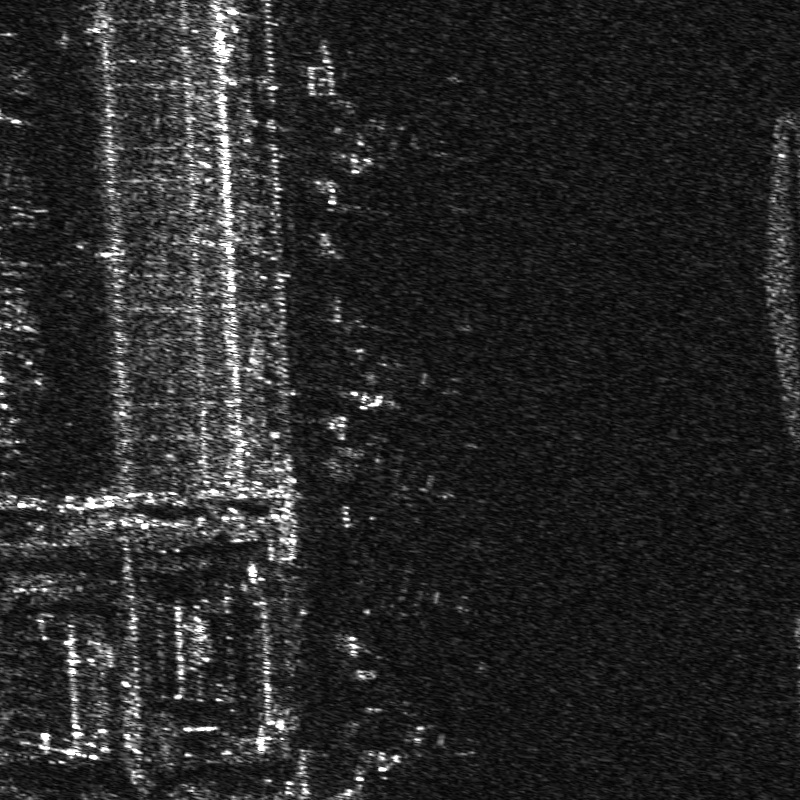A220: (358, 720, 478, 792)
A320/321: (352, 557, 479, 660)
other: (373, 465, 460, 531)
